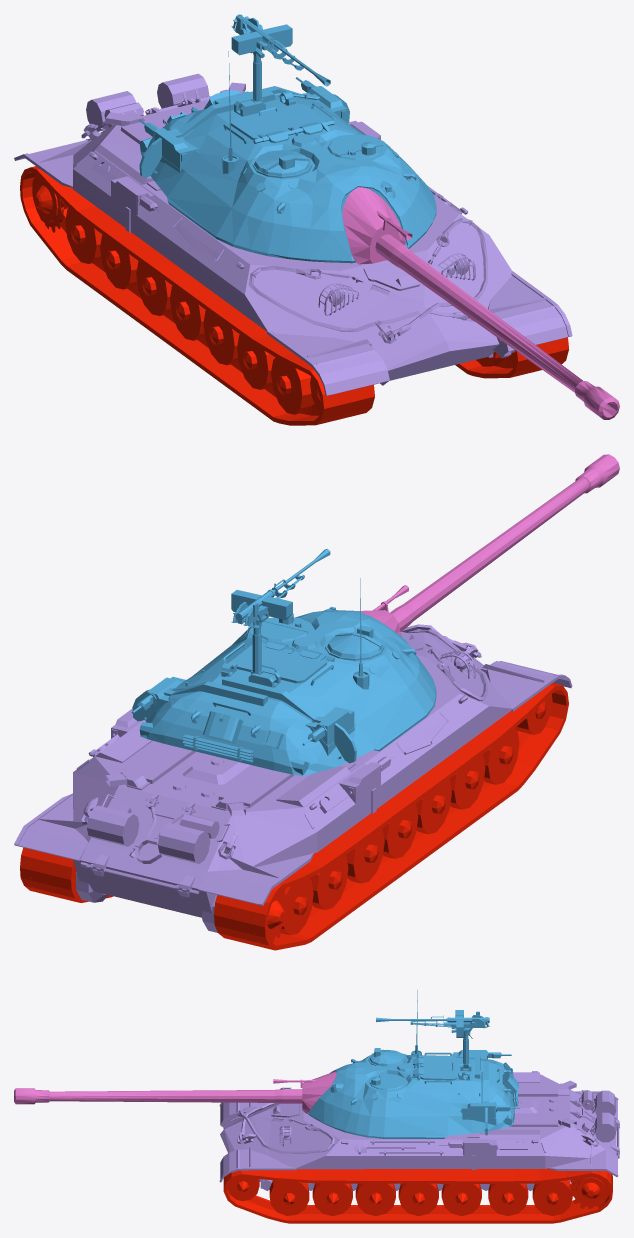
The picture shows the model from 3 angles, top to bottom: view 1: azimuth 30°, elevation 25°; view 2: azimuth 150°, elevation 25°; view 3: azimuth 270°, elevation 25°; orthographic projection. The views are drawn at different scales.
Visible parts, largest first — view 1: Object_1, Turret, Track_Right, Wheels_Right., Gun, Track_Left; view 2: Object_1, Turret, Track_Right, Wheels_Right., Gun, Track_Left; view 3: Object_1, Turret, Track_Left, Wheels_Left, Gun.
Part boxes in pixels (box(x1,y1,x2,y2)): Object_1: box(14, 73, 572, 396); Turret: box(138, 14, 436, 263); Track_Right: box(20, 166, 374, 425); Wheels_Right.: box(32, 173, 321, 414); Gun: box(342, 187, 619, 419); Track_Left: box(455, 337, 568, 378); Object_1: box(14, 624, 572, 932); Turret: box(131, 548, 436, 775); Track_Right: box(214, 683, 568, 950); Wheels_Right.: box(255, 694, 552, 947); Gun: box(358, 454, 619, 636); Track_Left: box(20, 847, 112, 902); Object_1: box(219, 1071, 619, 1190); Turret: box(308, 990, 520, 1138); Track_Left: box(223, 1168, 612, 1223); Wheels_Left: box(227, 1172, 612, 1215); Gun: box(14, 1071, 336, 1113).
Bounding box in the file's own units: 339 × 372 × 1102.
